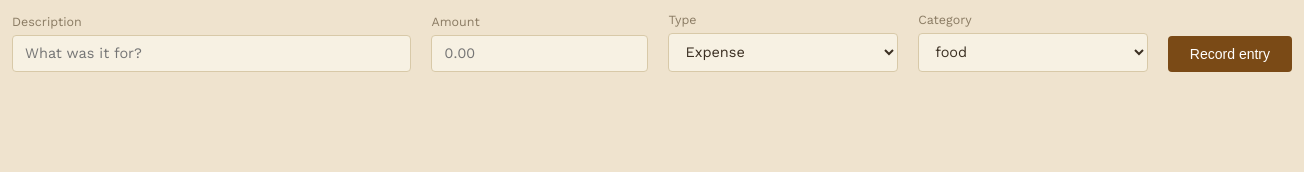
Test: TransactionForm › submits a coerced numeric amount and resets the form
Type "Coffee" into the field labelled "Description". click: (212, 54)
box: [12,35,411,72]
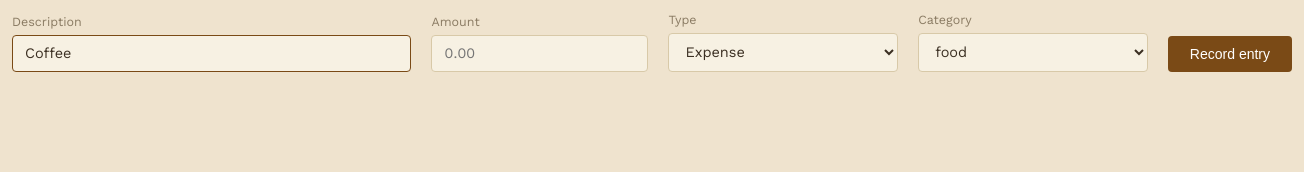
Type "4.5" into the number field labelled "Amount". click: (540, 54)
box: [431,35,648,72]
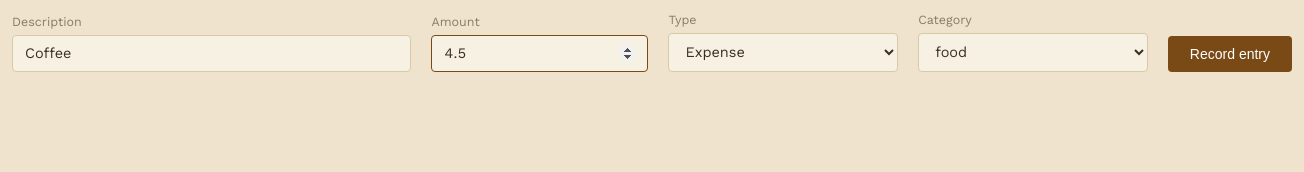
Click the button "Record entry". click: (1230, 54)
box: [1168,36,1292,72]
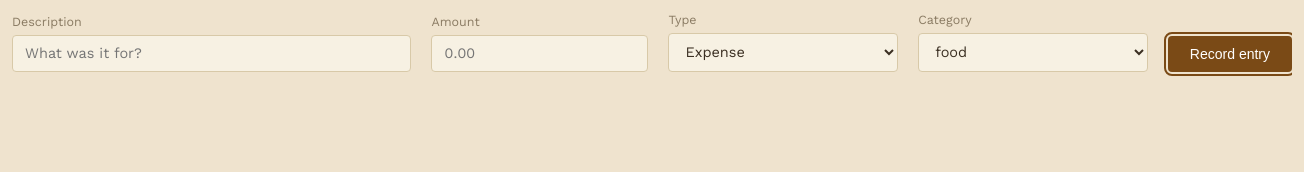
Result: the field labelled "Description" is empty at [12,35,411,72]
Result: the number field labelled "Amount" is not empty at [431,35,648,72]
